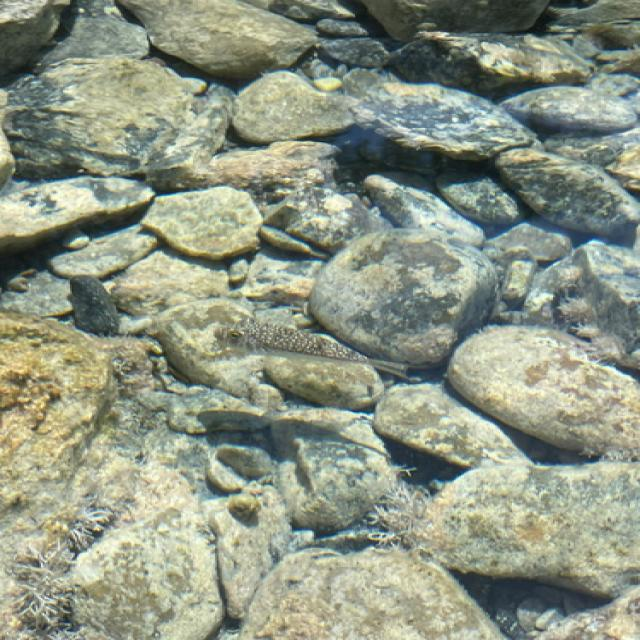Balik: (217, 319, 409, 380)
